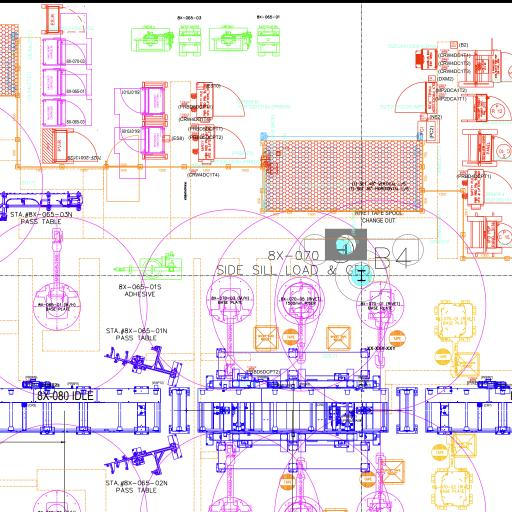robot: (30, 224, 83, 334), (202, 273, 257, 378), (272, 275, 328, 366), (354, 279, 406, 372), (431, 296, 481, 382), (424, 431, 475, 510)
